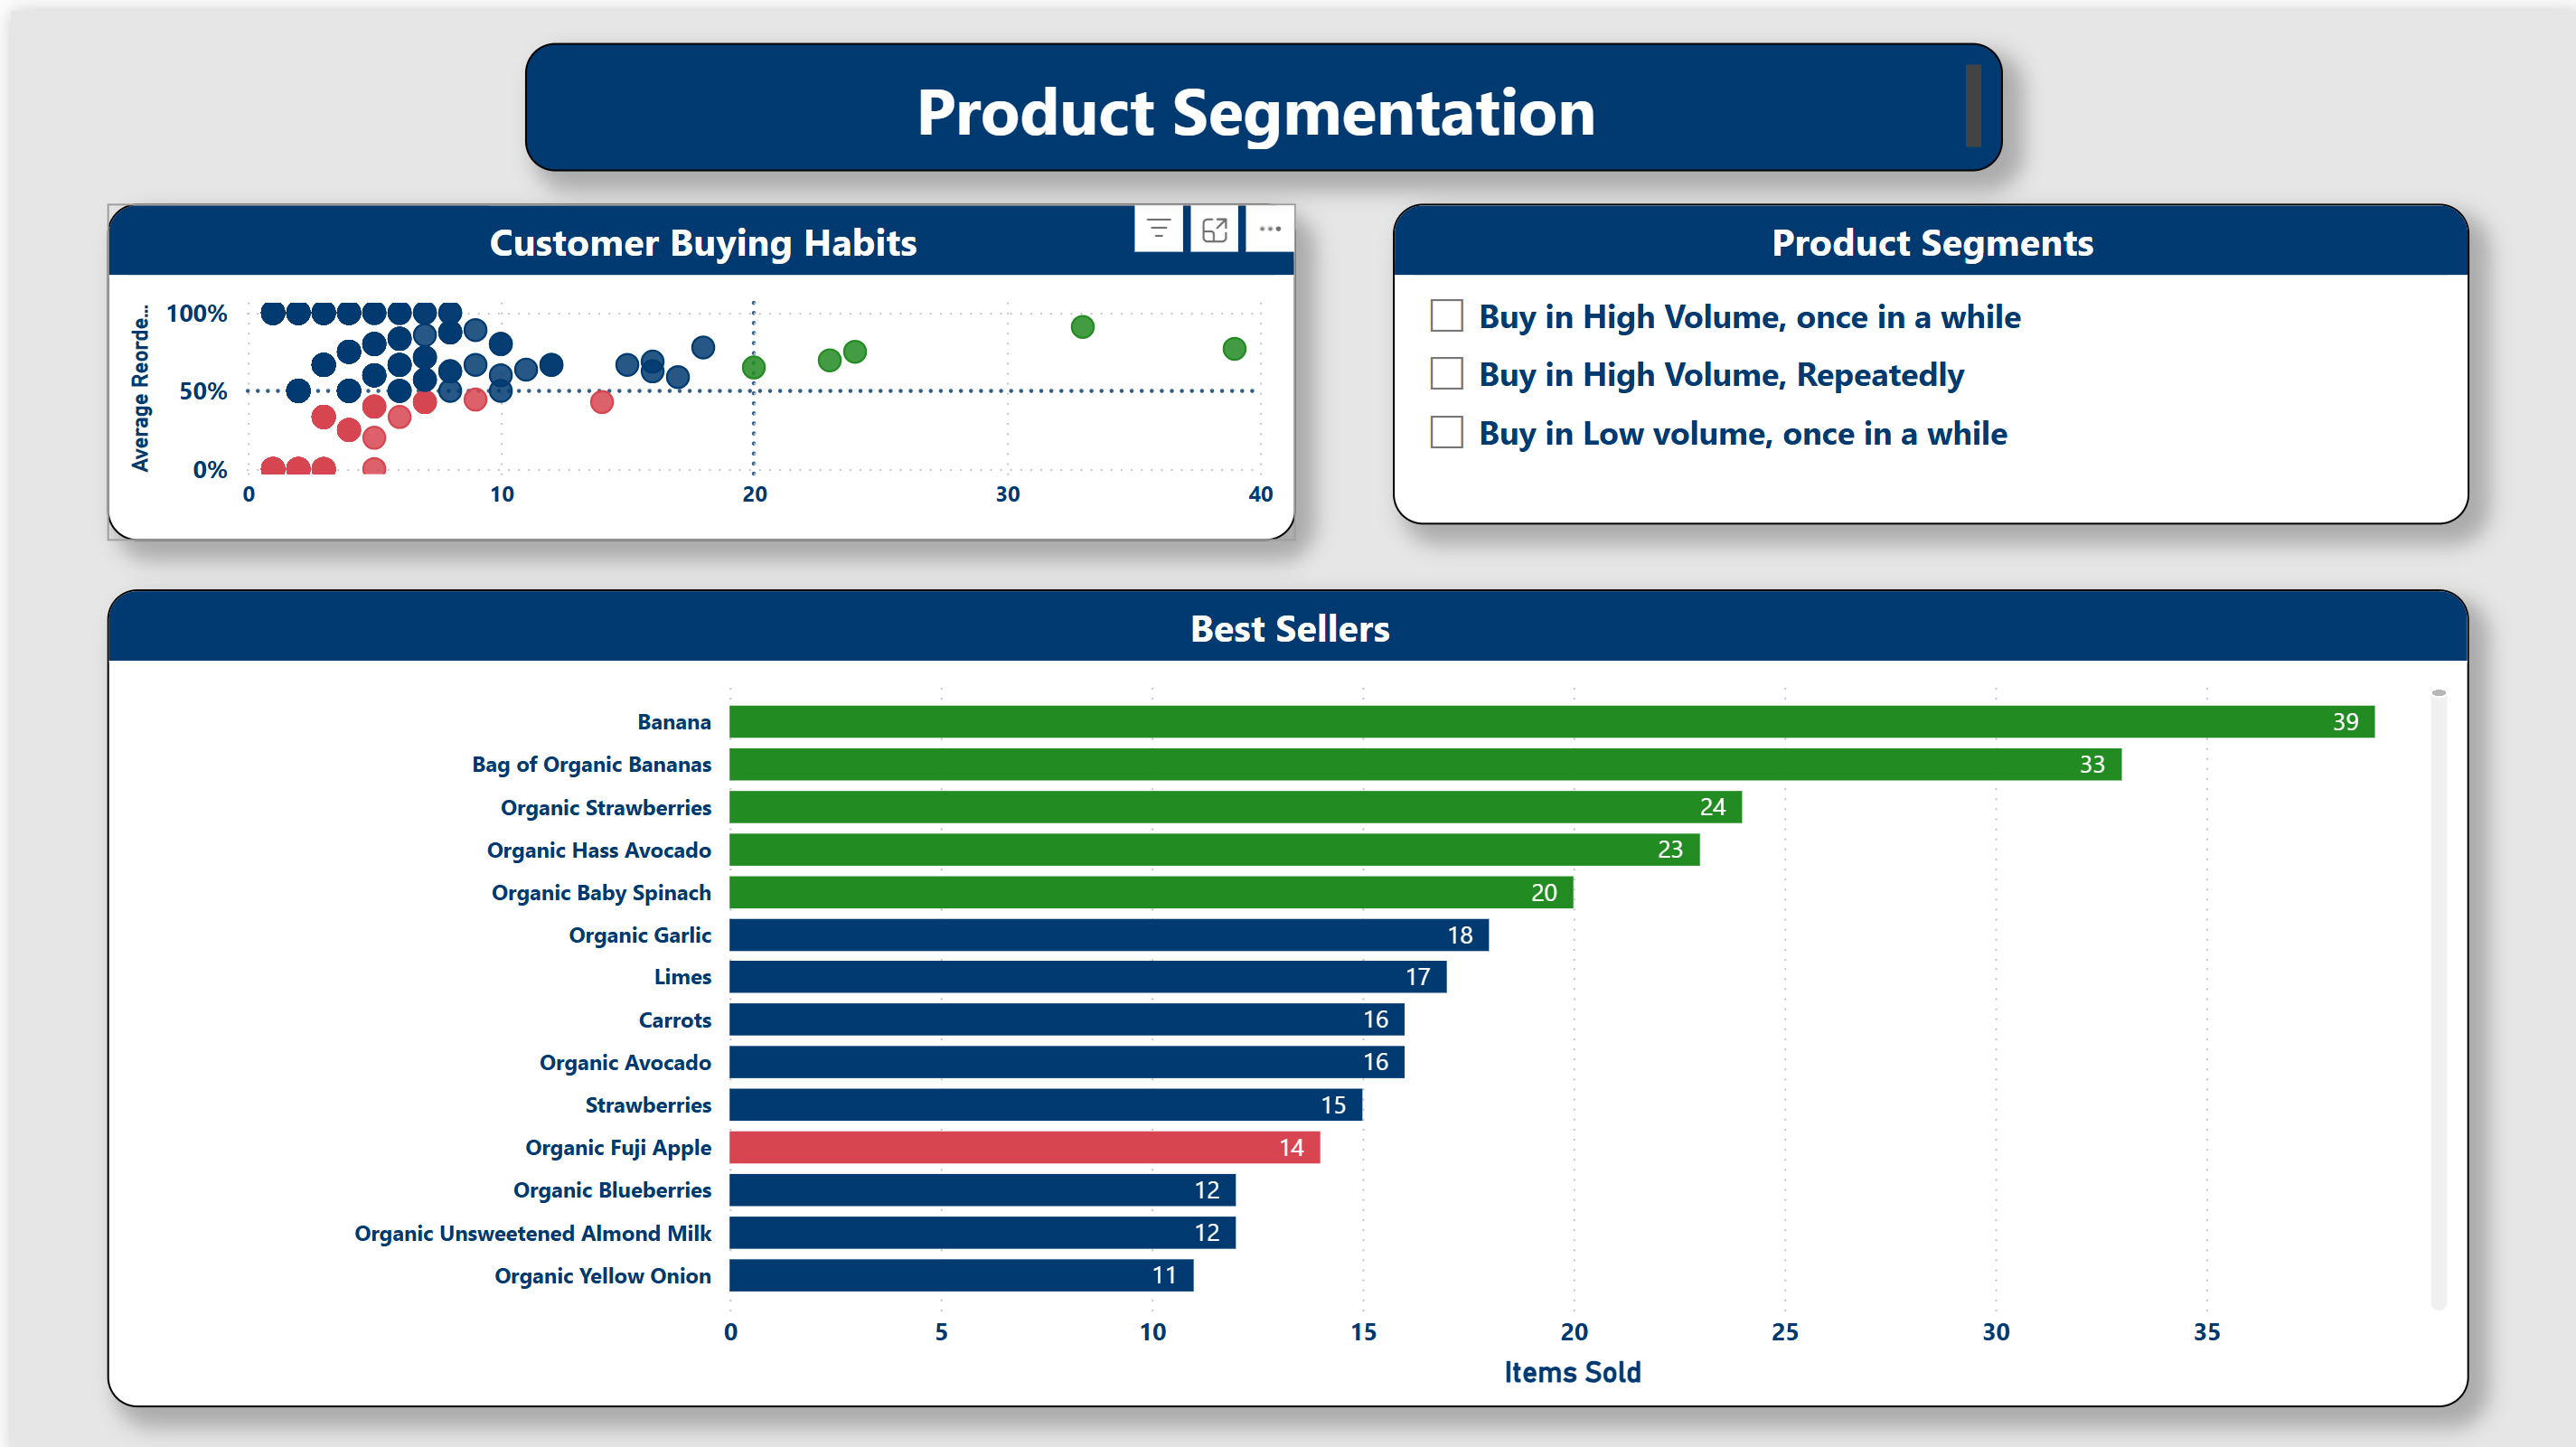

The dashboard page shown, as its layout file describes it:
{"tool":"powerbi","page":{"name":"Product Segmentation","canvas":[1280,720],"ordinal":1},"visuals":[{"type":"scatterChart","title":"Customer Buying Habits","fields":{"X":["DIM_ORDER.Product Volume"],"Y":["Avg(FCT_ORDER_PRODUCTS.Reordered_Numeric)"],"Series":["DIM_PRODUCT.PRODUCT_NAME"]},"box":[48,96,592,168],"z":0},{"type":"slicer","title":"Product Segments","fields":{"Values":["Quadrant Menu (2).Segment"]},"box":[688,96,536,160],"z":1000},{"type":"textbox","title":"Page 1 Tittle","box":[256,16,736,64],"z":2000},{"type":"barChart","title":"Best Sellers","fields":{"Y":["DIM_ORDER.Product Volume"],"Category":["DIM_PRODUCT.PRODUCT_NAME"]},"box":[48,288,1176,408],"z":3000}]}

Visuals, with their boxes in screenshot pixels (x1, y1, x2, y2), scaled from the page's 1280x720 canvas onto the 2576x1447 screenshot:
"Customer Buying Habits" scatterChart: 97/193/1288/531
"Product Segments" slicer: 1385/193/2463/514
"Page 1 Tittle" textbox: 515/33/1997/161
"Best Sellers" barChart: 97/578/2463/1399
